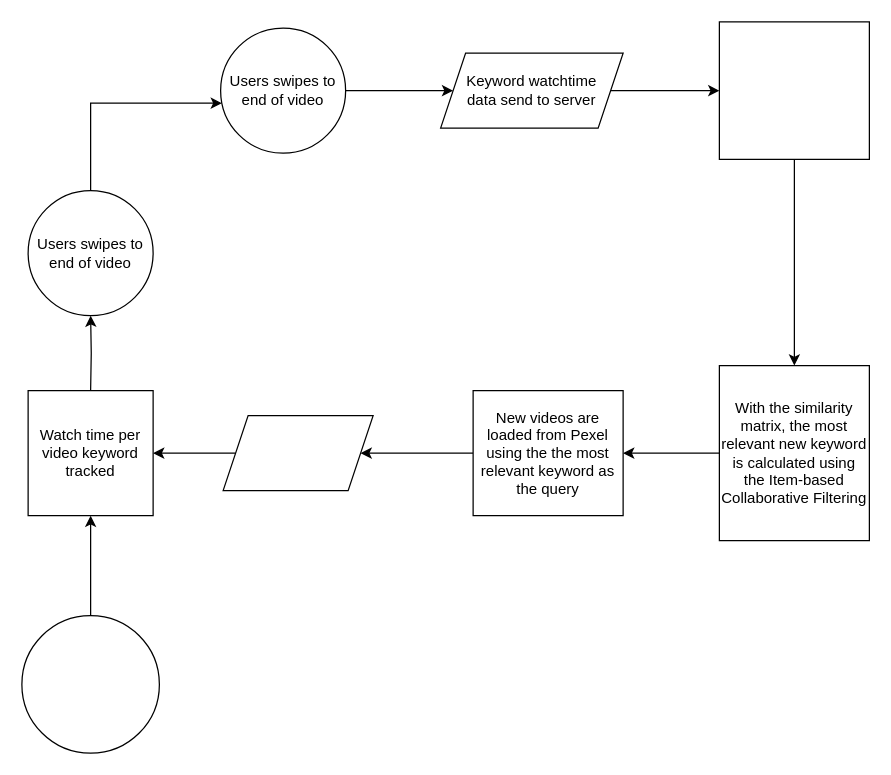
Image size: 891x775. Some labels were removed from this diagram. Here are the shapes that lost their labels. From the top down, the centre of each, then its label:
At (x=793, y=90): "Server uses keyword watchtime and datamuse to make similarity matrix".
At (x=297, y=452): "New videos are sent to the user".
At (x=90, y=683): "User opens app and starts swiping".
